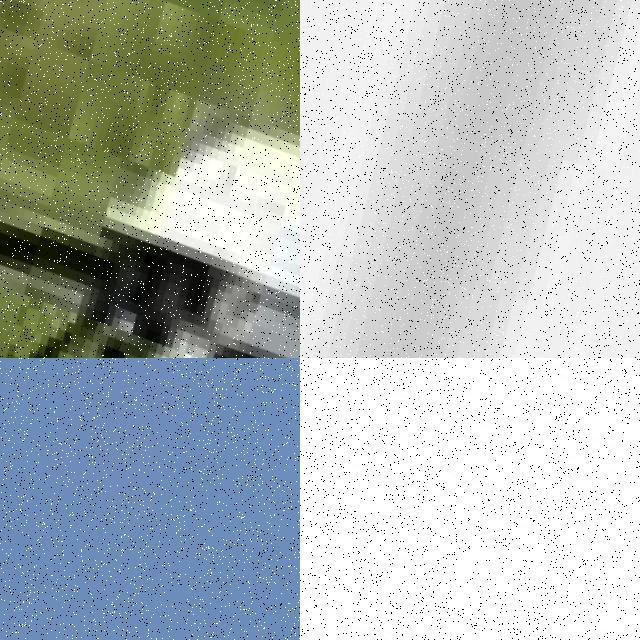0: (0, 0, 300, 358)
drone: (300, 358, 640, 640)
